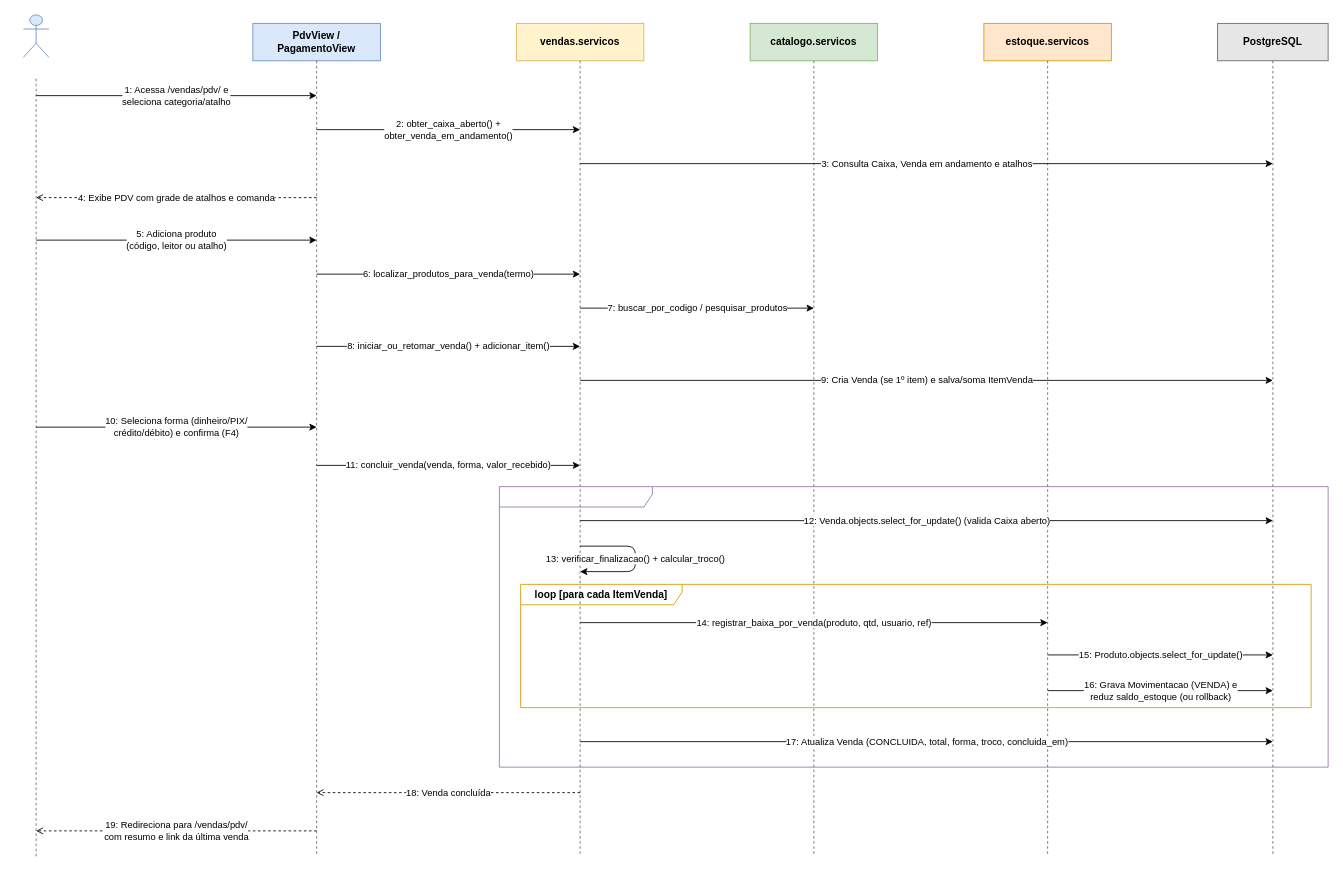
The diagram is 1343 pixels wide and 872 high, and some of its shapes have lost their labels. Here are the shapes that lost their labels. From the top down, the box of each, then its label:
(23, 14, 49, 57): Operador
(499, 486, 1328, 767): tx (@transaction.atomic)
